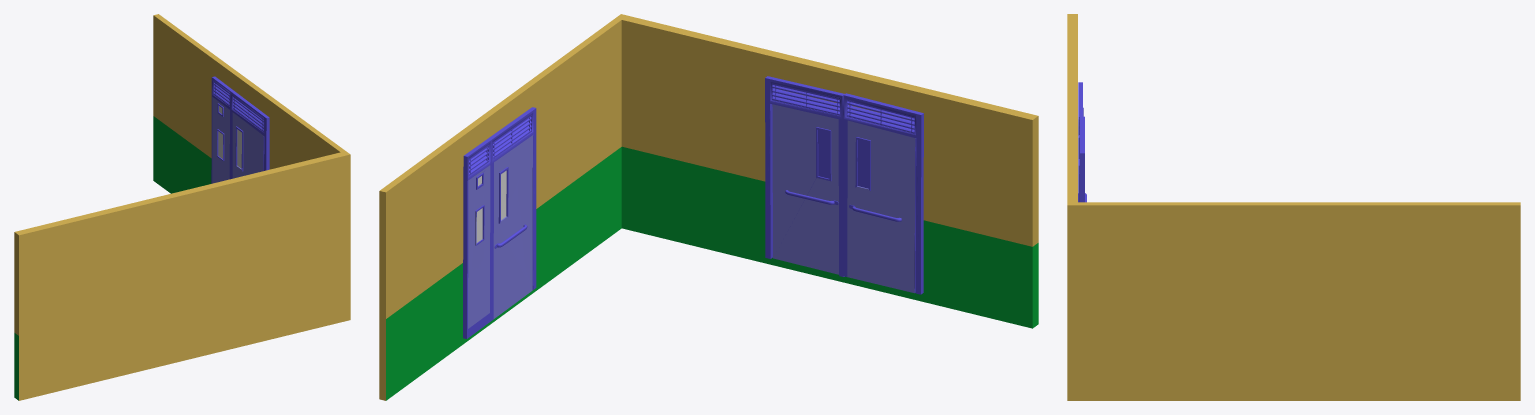
File: WALL.fbx
3 renders of one model, left to right at view 1: azimuth 30°, elevation 25°; view 2: azimuth 150°, elevation 25°; view 3: azimuth 270°, elevation 25°, orthographic. The views are drawn at different scales.
Visible parts, largest first — view 1: uploads_files_602596_Frame.001; view 2: uploads_files_602596_Frame.001; view 3: uploads_files_602596_Frame.001.
Part boxes in pixels (x1,y1,x2,y2): uploads_files_602596_Frame.001: (14, 14, 350, 400); uploads_files_602596_Frame.001: (379, 14, 1038, 400); uploads_files_602596_Frame.001: (1067, 14, 1520, 400).
Bounding box in the file's own units: 1021 × 487 × 1023.
